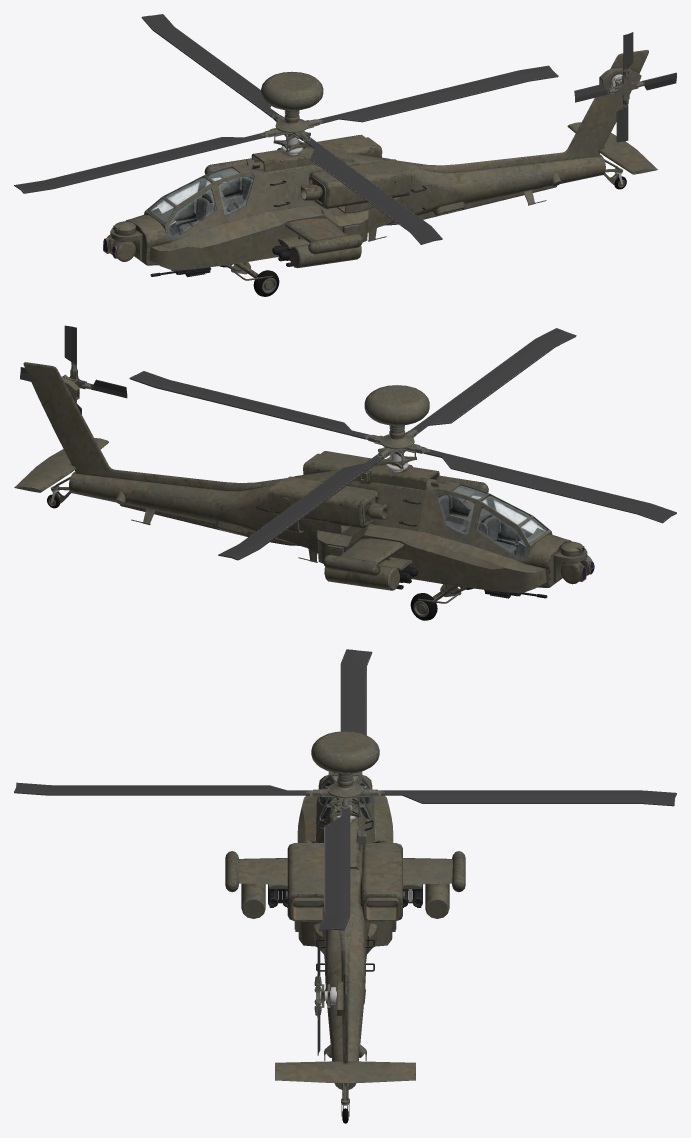
File: helicopter.glb
3 renders of one model, top to bottom at view 1: azimuth 30°, elevation 25°; view 2: azimuth 150°, elevation 25°; view 3: azimuth 270°, elevation 25°, orthographic. The views are drawn at different scales.
Visible parts, largest first — view 1: defaultMaterial (×5); view 2: defaultMaterial (×5); view 3: defaultMaterial (×3).
Boxes of the visible parts, x1=… form: defaultMaterial (×5): x1=14, y1=14, x2=676, y2=296; defaultMaterial (×5): x1=14, y1=325, x2=676, y2=620; defaultMaterial (×3): x1=14, y1=649, x2=676, y2=1123.
Bounding box in the file's own units: 11.43 × 3.22 × 9.36.
Materials: 4 (4 with a texture image).
